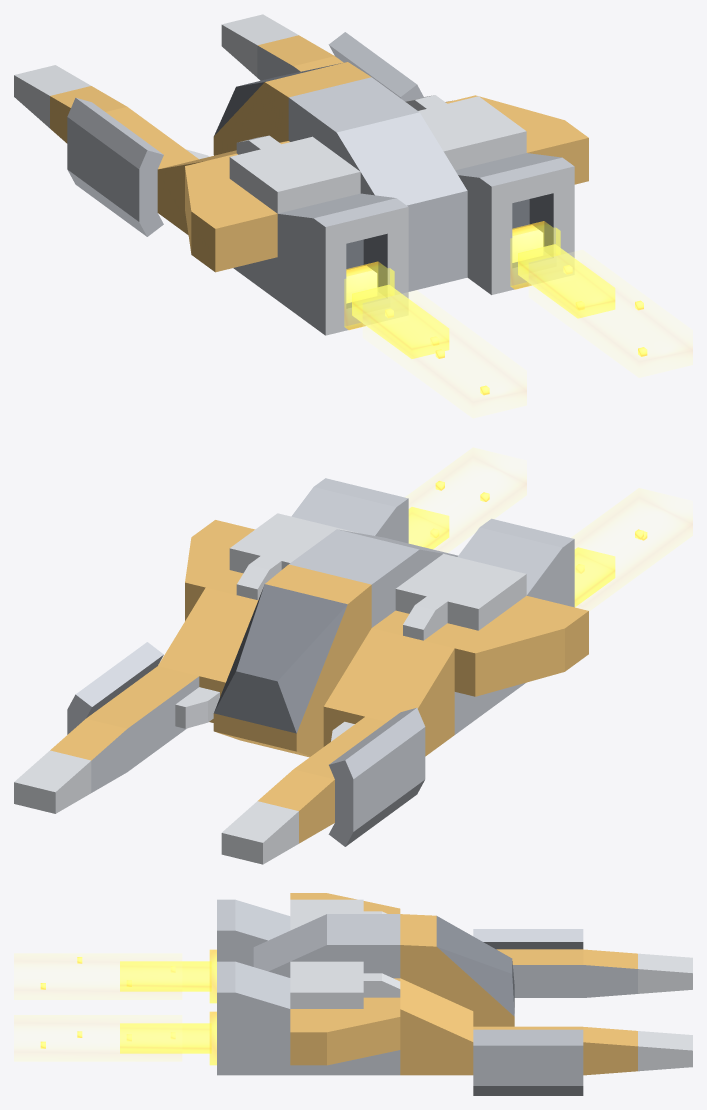
Rendered from craft_miner_A.glb.
3 views of the same model, one above another, from view 1: azimuth 30°, elevation 25°; view 2: azimuth 150°, elevation 25°; view 3: azimuth 270°, elevation 25° (orthographic). The views are drawn at different scales.
Parts seen in each view (by area): view 1: craft_miner, fx_left_haze, fx_right_haze, fx_right_trail, fx_left_trail, fx_right_glow, fx_left_glow, fx_left_core, fx_right_core; view 2: craft_miner, fx_left_haze, fx_right_haze, fx_left_trail, fx_right_trail; view 3: craft_miner, fx_left_haze, fx_right_haze, fx_left_trail, fx_right_trail, fx_left_glow, fx_right_glow.
Boxes of the visible parts, left/top/right/bottom form: craft_miner: left=14, top=14, right=588, bottom=335; fx_left_haze: left=363, top=290, right=526, bottom=417; fx_right_haze: left=529, top=250, right=692, bottom=377; fx_right_trail: left=518, top=244, right=615, bottom=318; fx_left_trail: left=352, top=285, right=449, bottom=358; fx_right_glow: left=510, top=221, right=560, bottom=289; fx_left_glow: left=344, top=261, right=394, bottom=329; fx_left_core: left=346, top=265, right=377, bottom=303; fx_right_core: left=512, top=225, right=543, bottom=262; craft_miner: left=14, top=478, right=588, bottom=864; fx_left_haze: left=571, top=488, right=692, bottom=610; fx_right_haze: left=405, top=448, right=526, bottom=552; fx_left_trail: left=574, top=547, right=615, bottom=606; fx_right_trail: left=408, top=507, right=449, bottom=549; craft_miner: left=217, top=893, right=692, bottom=1095; fx_left_haze: left=14, top=953, right=181, bottom=999; fx_right_haze: left=14, top=1015, right=181, bottom=1061; fx_left_trail: left=120, top=961, right=211, bottom=991; fx_right_trail: left=120, top=1023, right=211, bottom=1053; fx_left_glow: left=209, top=949, right=216, bottom=1003; fx_right_glow: left=209, top=1011, right=216, bottom=1065.
Size of the model in its own units: 1.8 by 0.7 by 3.71.
